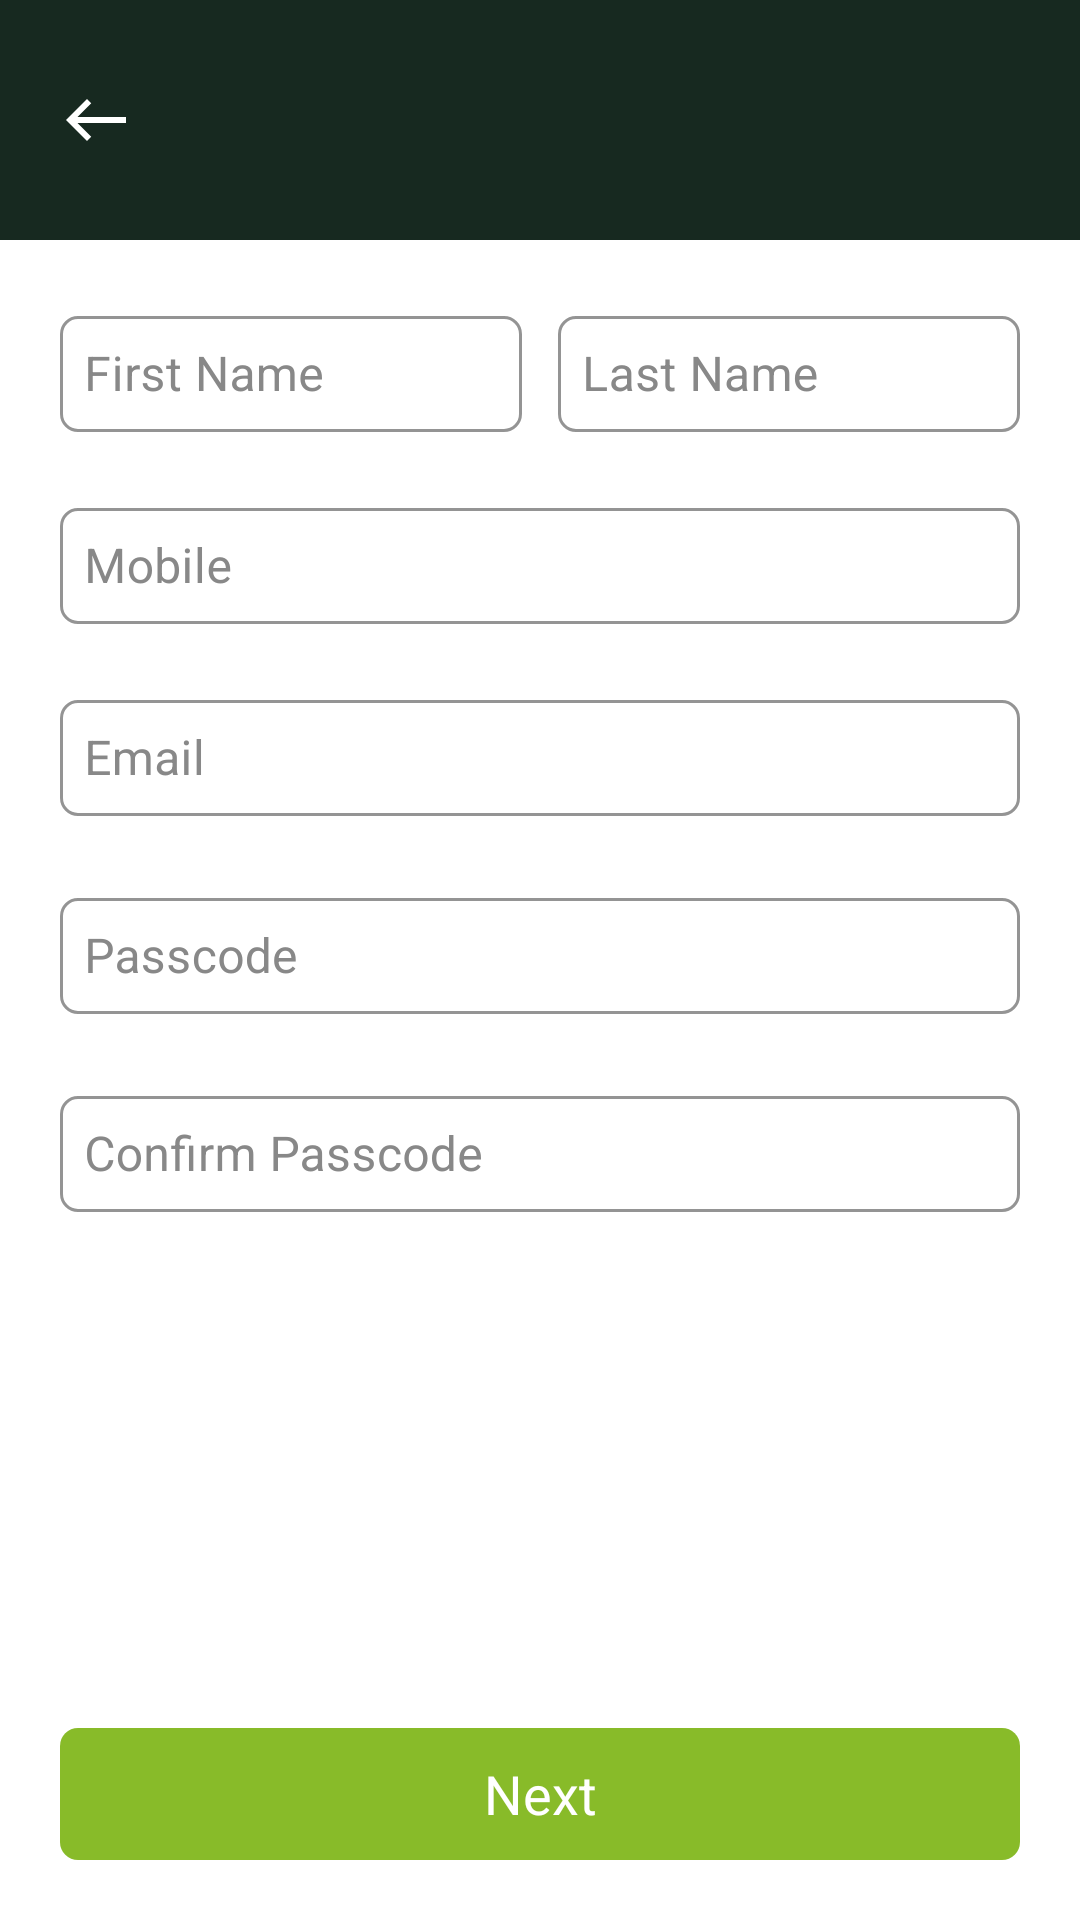

Icon bounding boxes for this 1080px×1920px phone screenshot, format bbox(x1, y1, x2, y2):
arrow back: bbox(66, 99, 126, 141)
